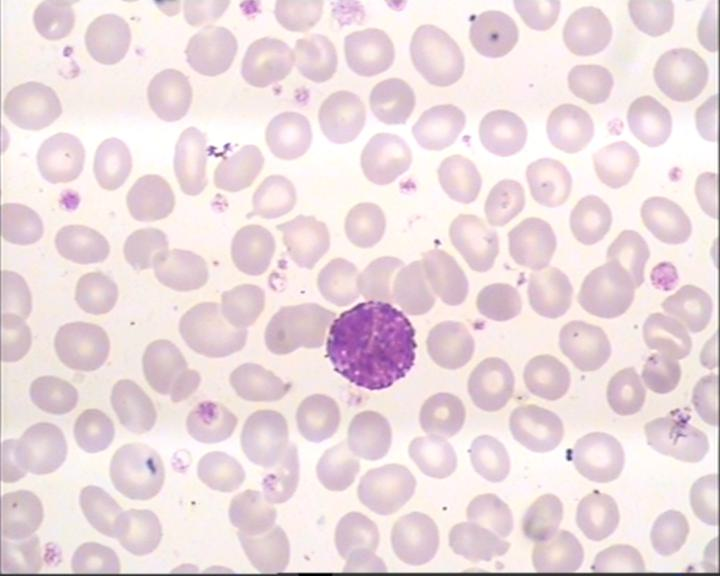baso: (321, 295, 421, 394)
